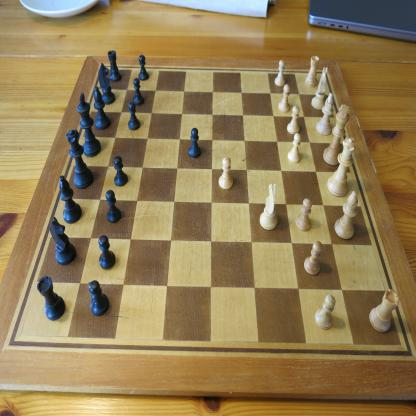black-bishop: (59, 175, 82, 224), (93, 86, 111, 130)
black-king: (77, 92, 101, 158)
black-knight: (50, 216, 76, 266), (98, 61, 115, 105)
black-pawn: (88, 280, 110, 316), (98, 234, 116, 270), (105, 189, 122, 223), (113, 155, 128, 187), (188, 127, 201, 159), (128, 101, 140, 131), (133, 77, 145, 105), (138, 54, 150, 81)
black-queen: (65, 129, 94, 189)
black-rook: (36, 275, 66, 321), (107, 50, 122, 82)
white-bishop: (334, 190, 358, 240), (315, 92, 334, 136)
white-king: (322, 104, 350, 166)
white-knight: (259, 183, 278, 231), (311, 66, 328, 111)
white-pawn: (314, 294, 336, 330), (303, 240, 323, 276), (295, 197, 312, 232), (218, 156, 233, 191), (288, 133, 302, 164), (286, 105, 300, 135), (278, 83, 290, 113), (274, 60, 286, 88)
white-queen: (326, 136, 358, 198)
white-rook: (369, 288, 400, 334), (304, 55, 320, 88)
